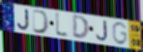D: (72, 15, 91, 41), (32, 9, 50, 35)
G: (112, 21, 129, 46)
J: (16, 8, 31, 32), (96, 20, 109, 43)
L: (54, 11, 71, 41)
